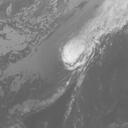cyclone: (60, 34, 94, 70)
